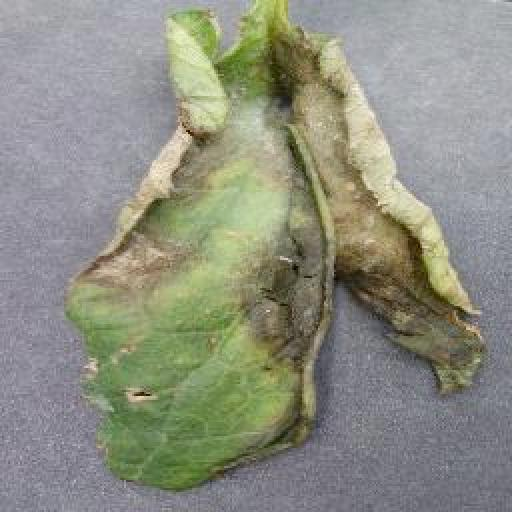disease_tomato: (70, 10, 490, 500)
